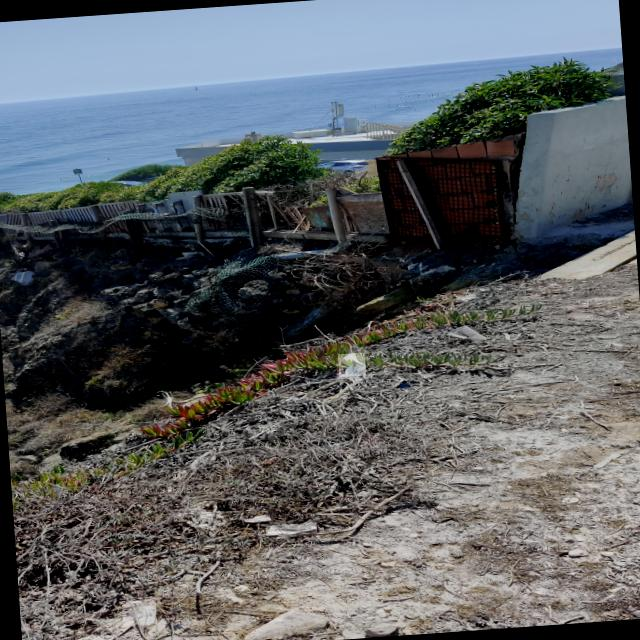Bottle cap: (398, 383, 409, 387)
Cup: (445, 326, 487, 341)
Unlabeled litter: (122, 600, 156, 624), (339, 353, 365, 376), (266, 525, 317, 534)
